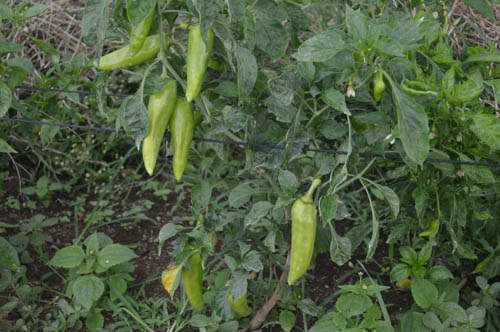ChiliPepper: (138, 80, 179, 173), (282, 194, 319, 288), (178, 23, 217, 105), (92, 29, 162, 71), (166, 99, 198, 183), (178, 247, 211, 312), (121, 3, 160, 54), (223, 281, 257, 321), (349, 112, 374, 138)
